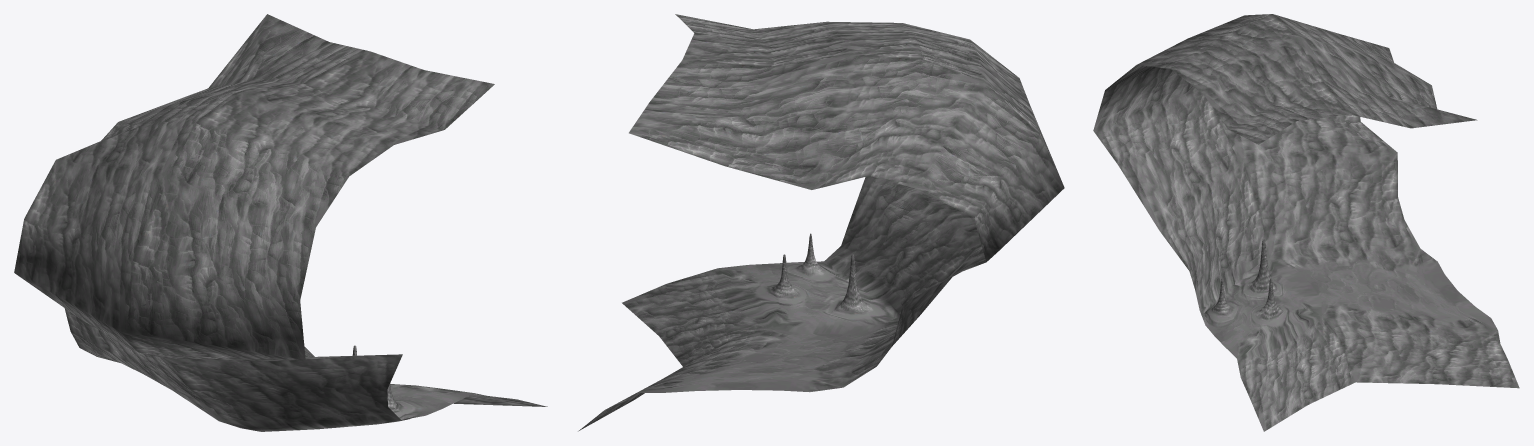
File: SWORDLIGHT20_PS-AREA05_04.fbx
3 views of the same model, side by side, from view 1: azimuth 30°, elevation 25°; view 2: azimuth 150°, elevation 25°; view 3: azimuth 270°, elevation 25° (orthographic). The views are drawn at different scales.
Visible parts, largest first — view 1: SWORDLIGHT20_PS-AREA05_04; view 2: SWORDLIGHT20_PS-AREA05_04; view 3: SWORDLIGHT20_PS-AREA05_04.
Boxes of the visible parts, <box> form: SWORDLIGHT20_PS-AREA05_04: <box>14,14,547,431</box>; SWORDLIGHT20_PS-AREA05_04: <box>578,14,1064,431</box>; SWORDLIGHT20_PS-AREA05_04: <box>1093,14,1519,431</box>.
Size of the model in its own units: 204066 by 150620 by 203094.
5 materials, 5 textured.
